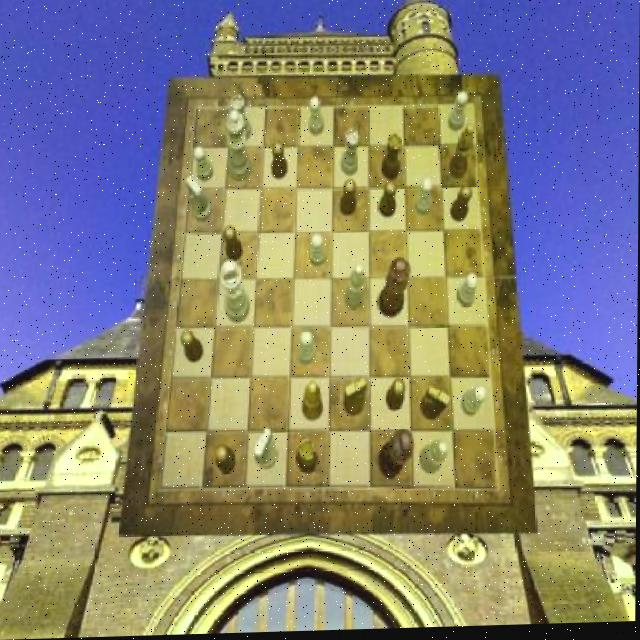bishop: (448, 126, 473, 181), (303, 383, 324, 424)
black-bishop: (378, 430, 414, 482)
black-king: (420, 388, 450, 425), (344, 379, 367, 418)
black-knight: (450, 189, 473, 225), (181, 332, 204, 365), (224, 227, 243, 263), (385, 381, 405, 415), (379, 183, 397, 220), (339, 181, 356, 219), (270, 143, 287, 181), (215, 447, 236, 475)
black-pawn: (378, 261, 411, 322)
black-queen: (381, 137, 402, 183), (296, 440, 319, 475)
black-rook: (419, 444, 448, 478), (344, 265, 365, 311)
white-bishop: (221, 262, 251, 325)
white-king: (186, 177, 213, 223), (254, 430, 277, 471)
white-knight: (460, 389, 487, 420), (448, 94, 468, 134), (457, 277, 478, 312), (415, 181, 433, 220), (193, 147, 213, 182), (308, 98, 324, 139), (299, 331, 316, 366), (309, 235, 326, 270)
white-pawn: (225, 111, 251, 184)
white-queen: (230, 97, 253, 143), (340, 132, 359, 178)
